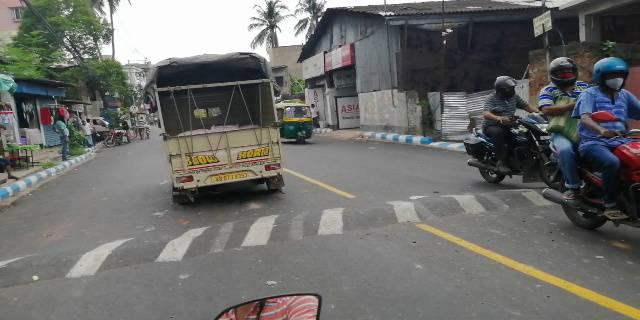Autorickshaw: (274, 100, 318, 146)
Minitruck: (146, 49, 285, 203)
Motorbike: (551, 58, 640, 236), (451, 74, 567, 190)
